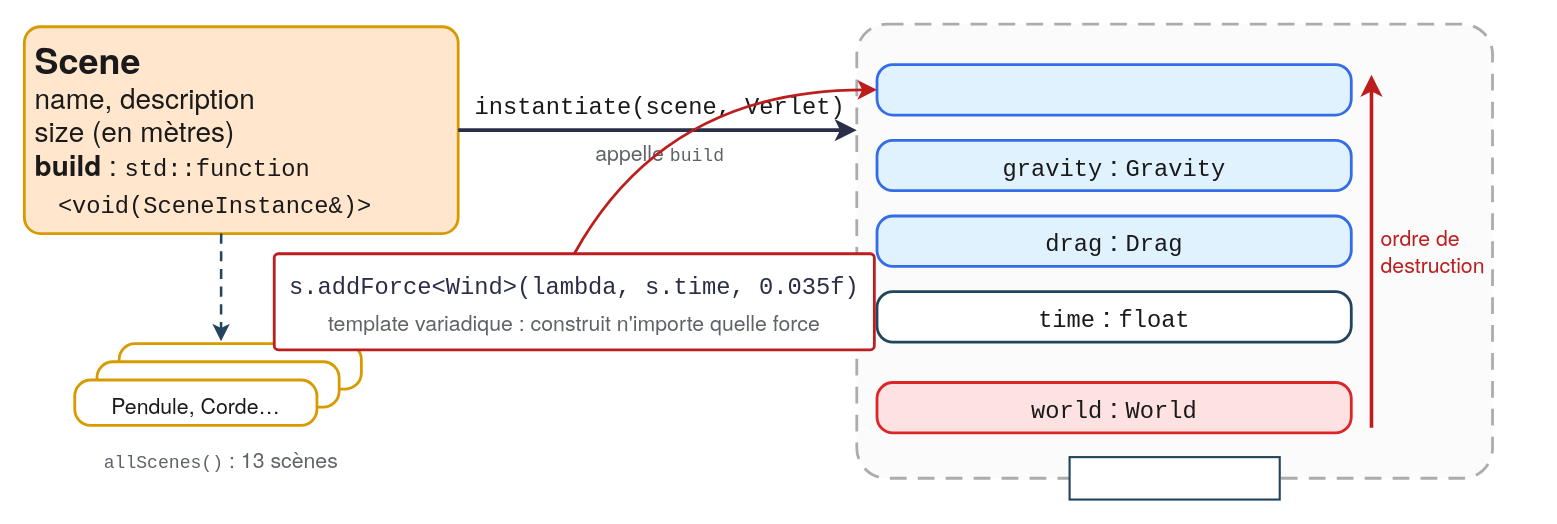
The diagram is 1557 pixels wide and 524 high, and some of its shapes have lost their labels. Here are the shapes that lost their labels. From the top down, the box of each, then its label:
(875, 63, 1352, 116): extra_forces : unique_ptr<Force>
(1068, 455, 1280, 500): SCENEINSTANCE
